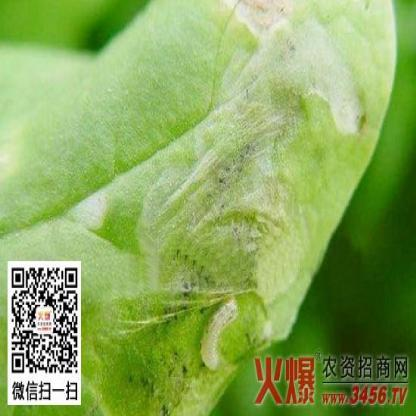whorl-maggot: (192, 288, 241, 372)
